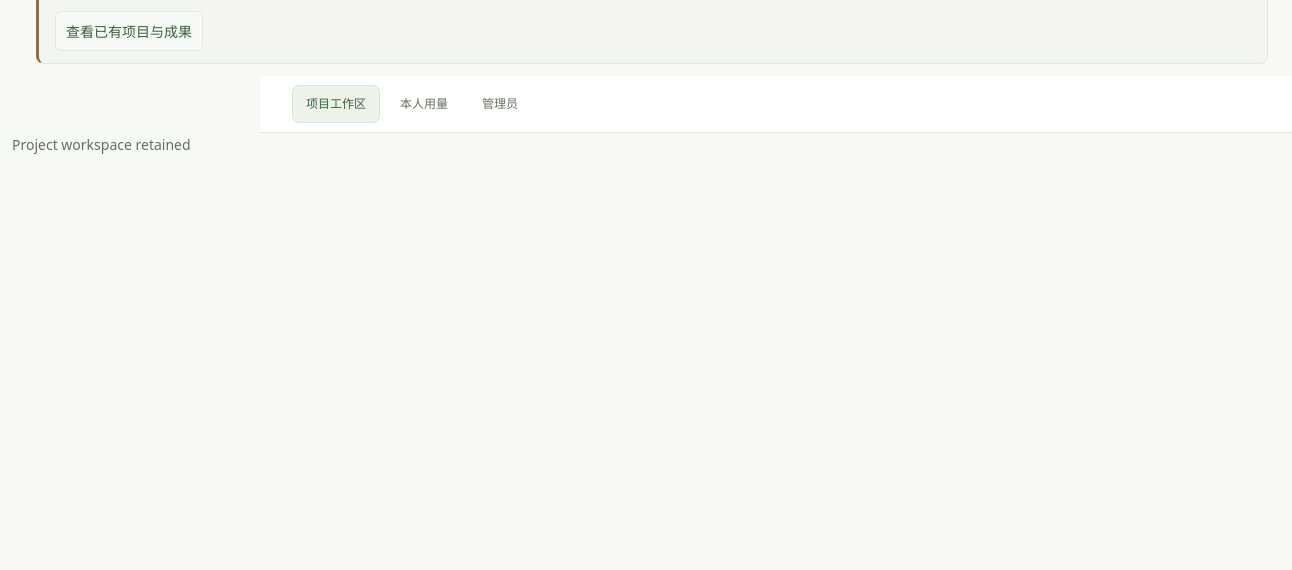
Test: writes revision and meaningful reason once and links audit
Click the button "管理员" at (500, 104), box x1=468 y1=85 x2=532 y2=123
(page scrolled)
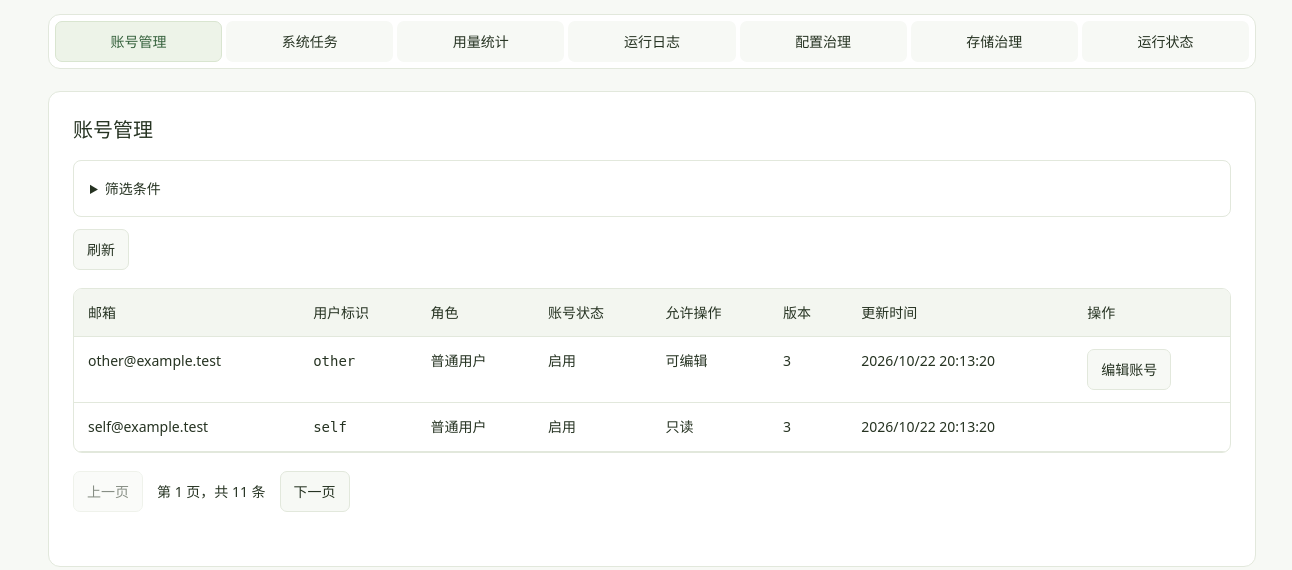
Click the button "编辑账号" at (1129, 369), box x1=1087 y1=349 x2=1171 y2=390
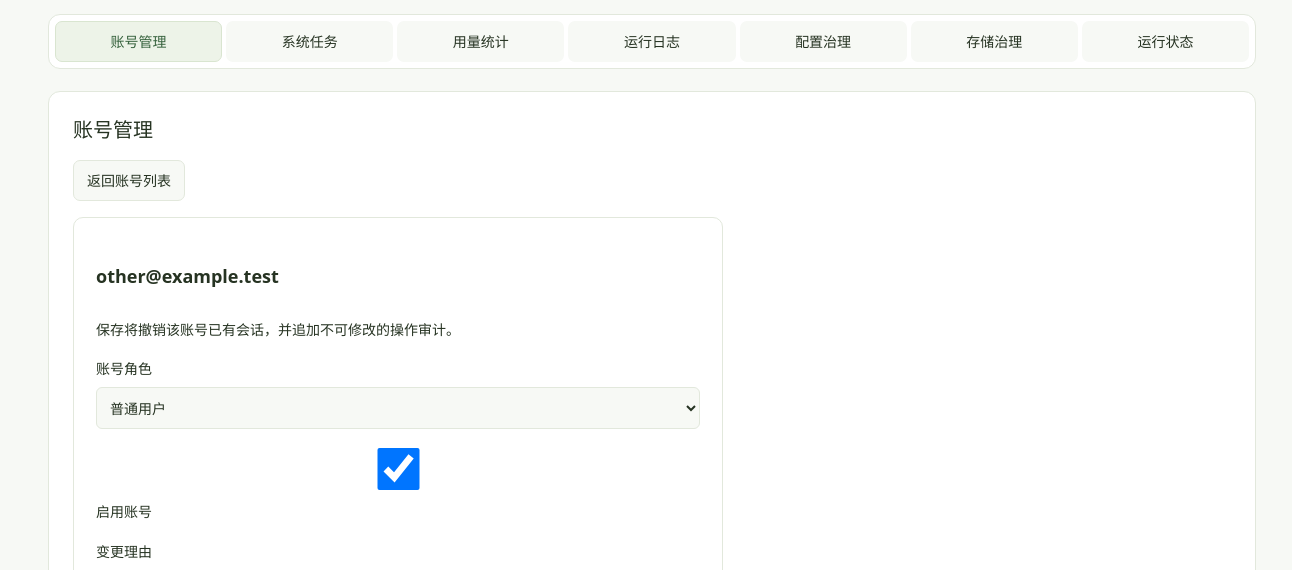
Select "管理员" in the dropdown labelled "账号角色" at (398, 408), box x1=96 y1=387 x2=700 y2=429
(page scrolled)
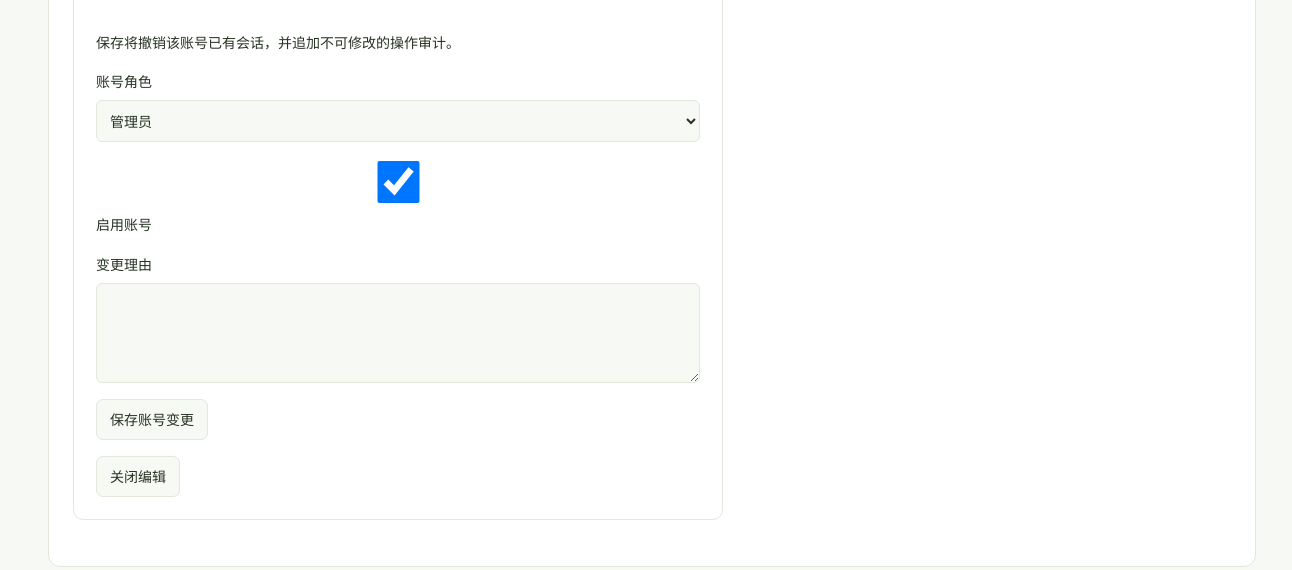
Type "Approved role adjustment" into the text box labelled "变更理由" at (398, 333), box x1=96 y1=283 x2=700 y2=383
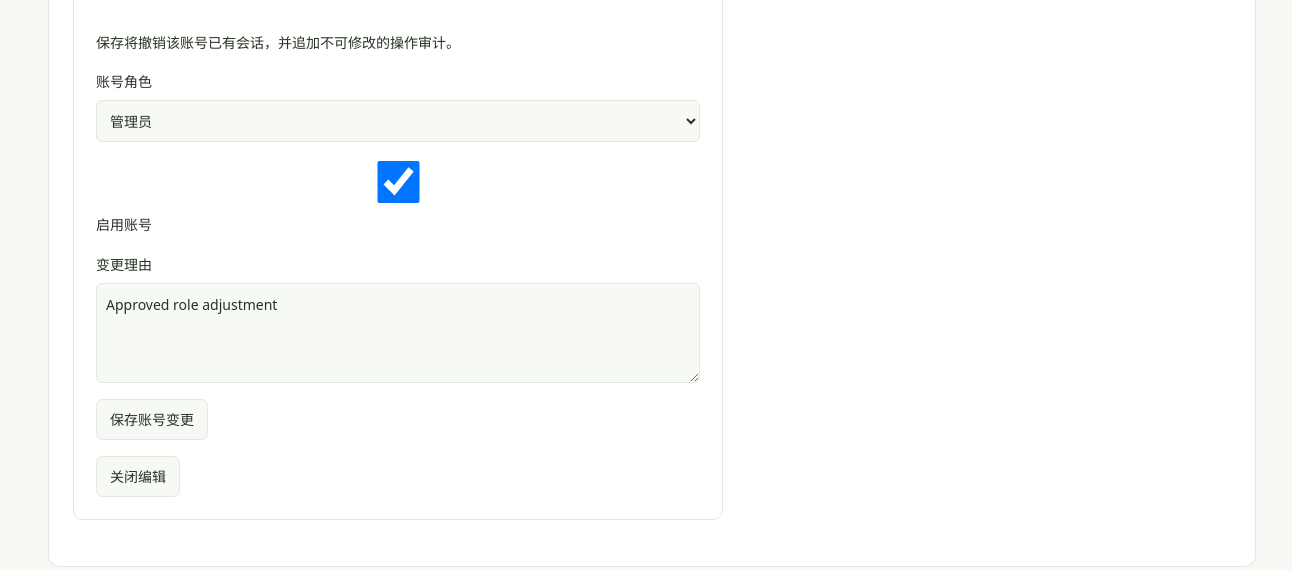
Click the button "保存账号变更" at (152, 419), box x1=96 y1=399 x2=208 y2=440
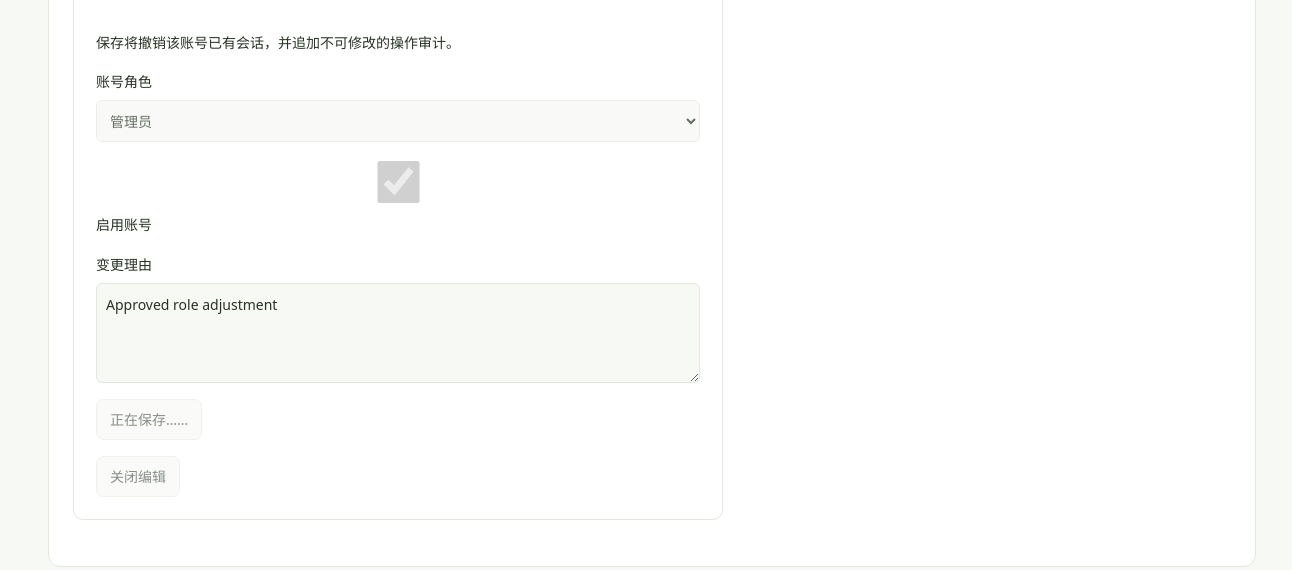
Click the button named "保存账号变更" at (149, 419), box x1=96 y1=399 x2=202 y2=440
(page scrolled)
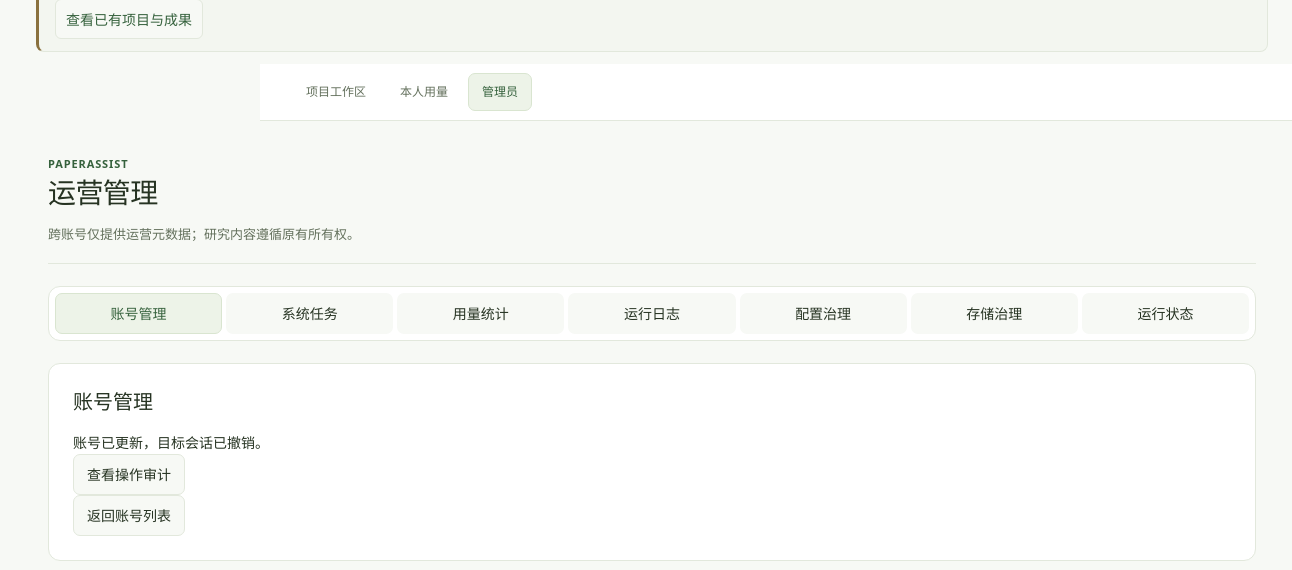
Check: the text "账号已更新，目标会话已撤销。" is shown, box x1=73 y1=433 x2=269 y2=452
Check: the button "查看操作审计" is shown, box x1=73 y1=454 x2=185 y2=495
